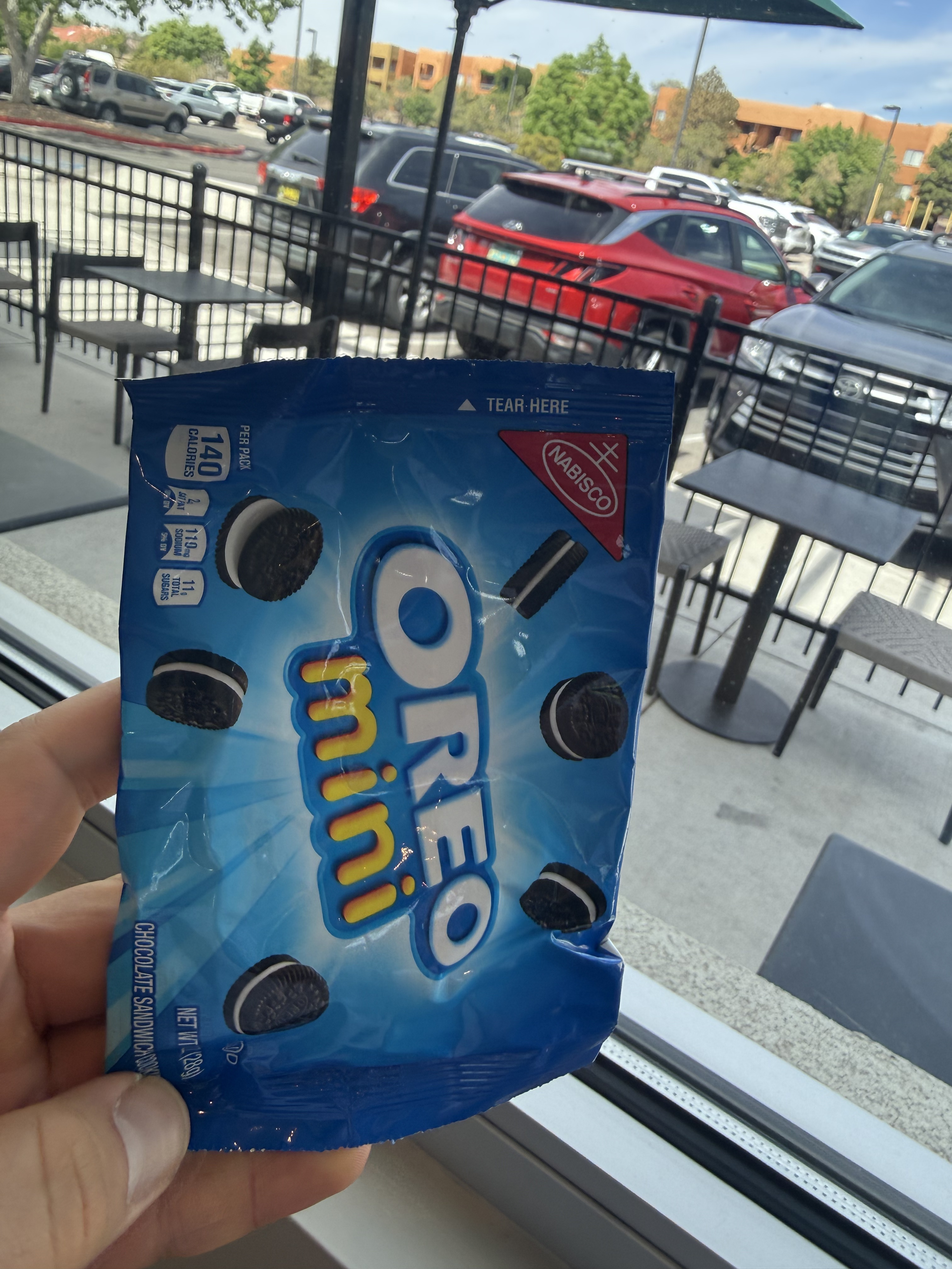oreo_mini: (119, 355, 636, 1114)
